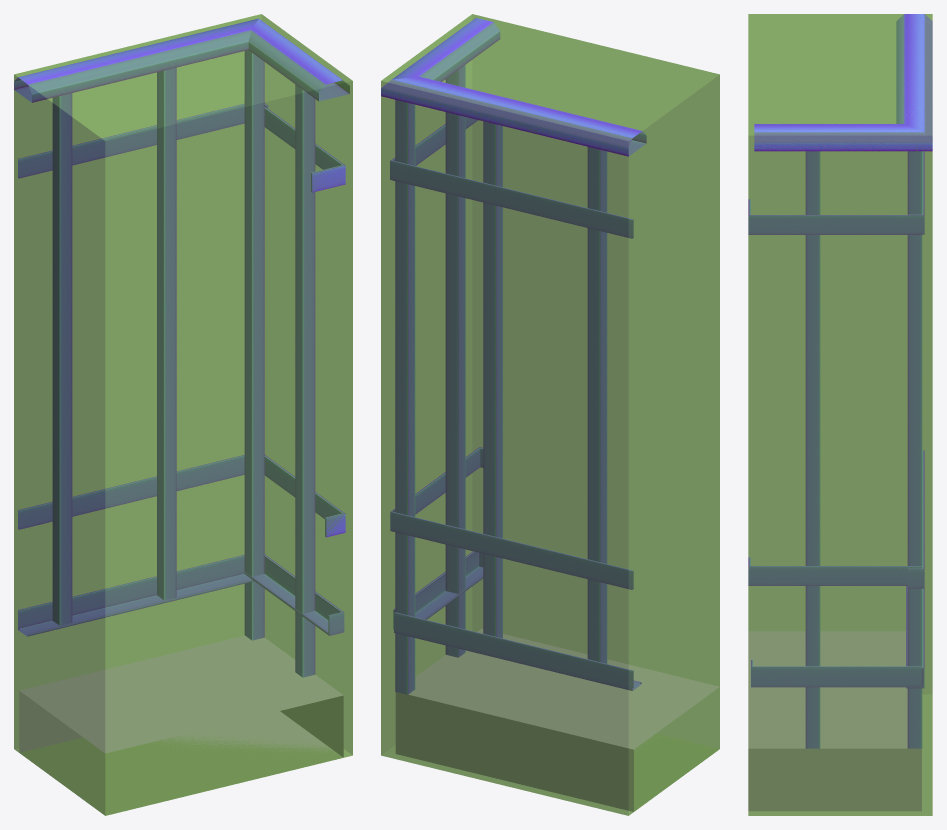
Rendered from F_md_Balcony_S_end_02.fbx.
3 views of the same model, side by side, from view 1: azimuth 30°, elevation 25°; view 2: azimuth 150°, elevation 25°; view 3: azimuth 270°, elevation 25° (orthographic).
Parts seen in each view (by area): view 1: F_md_Balcony_S_end_02_col_01, F_md_Balcony_S_end_02_LOD0; view 2: F_md_Balcony_S_end_02_col_01, F_md_Balcony_S_end_02_LOD0; view 3: F_md_Balcony_S_end_02_col_01, F_md_Balcony_S_end_02_LOD0.
Part boxes in pixels (x1,y1,x2,y2): F_md_Balcony_S_end_02_col_01: (14, 14, 352, 815); F_md_Balcony_S_end_02_LOD0: (14, 18, 349, 815); F_md_Balcony_S_end_02_col_01: (381, 14, 719, 815); F_md_Balcony_S_end_02_LOD0: (381, 18, 719, 811); F_md_Balcony_S_end_02_col_01: (748, 14, 932, 815); F_md_Balcony_S_end_02_LOD0: (748, 14, 932, 811).
Size of what is drawn, in the model's own units: 41.54 by 108 by 26.54.
